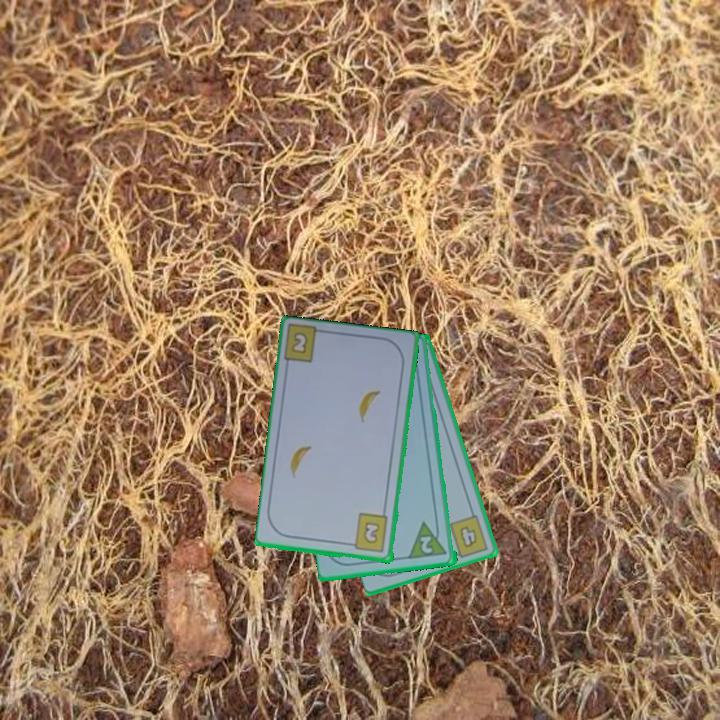2b: (345, 510, 391, 555), (288, 328, 311, 357)
2p: (407, 518, 450, 562)
4b: (446, 511, 491, 561)
